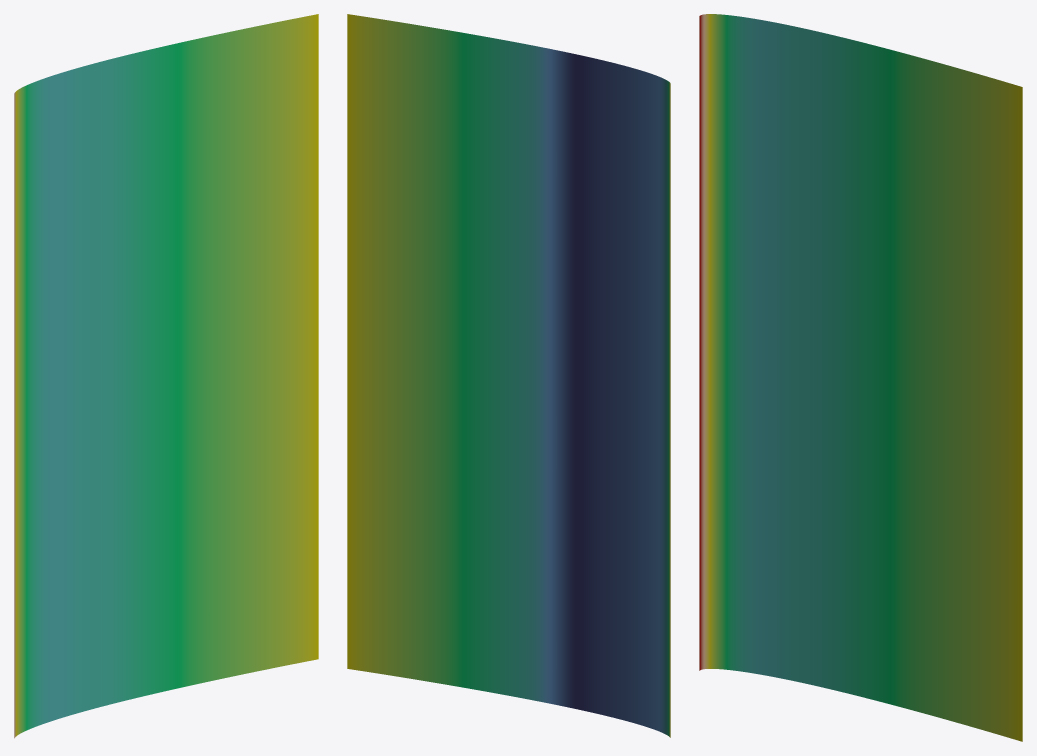
Rendered from morphing_wing_19.glb.
3 views of the same model, side by side, from view 1: azimuth 30°, elevation 25°; view 2: azimuth 150°, elevation 25°; view 3: azimuth 330°, elevation 25° (orthographic).
Visible parts, largest first — view 1: part_0_0; view 2: part_0_0; view 3: part_0_0.
Part boxes in pixels (x1,y1,x2,y2): part_0_0: (14,14,318,738); part_0_0: (347,14,670,737); part_0_0: (699,14,1022,741).
Size of the model in its own units: 1.01 by 2 by 0.1239.
